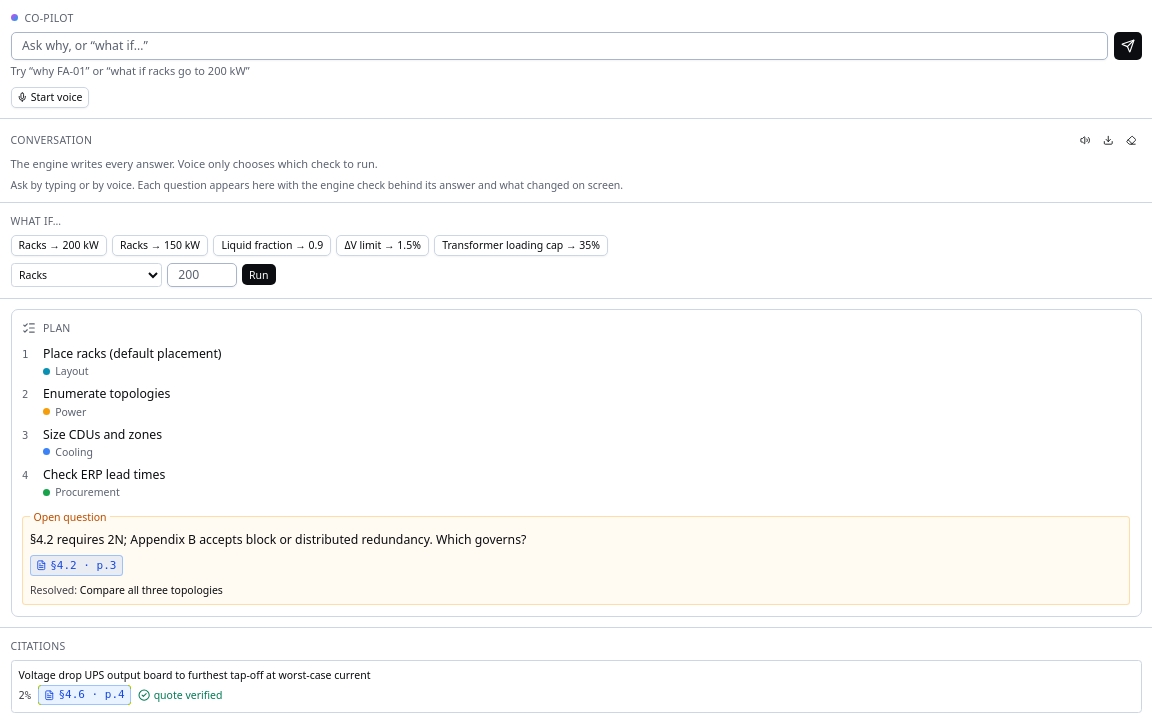
Test case: typed what-if answers with an engine-built summary and lights the chain
Type "what if racks go to 200 kW" into the field named "Ask the co-pilot" at [559, 46], box [10,32,1108,60]
Then press Enter
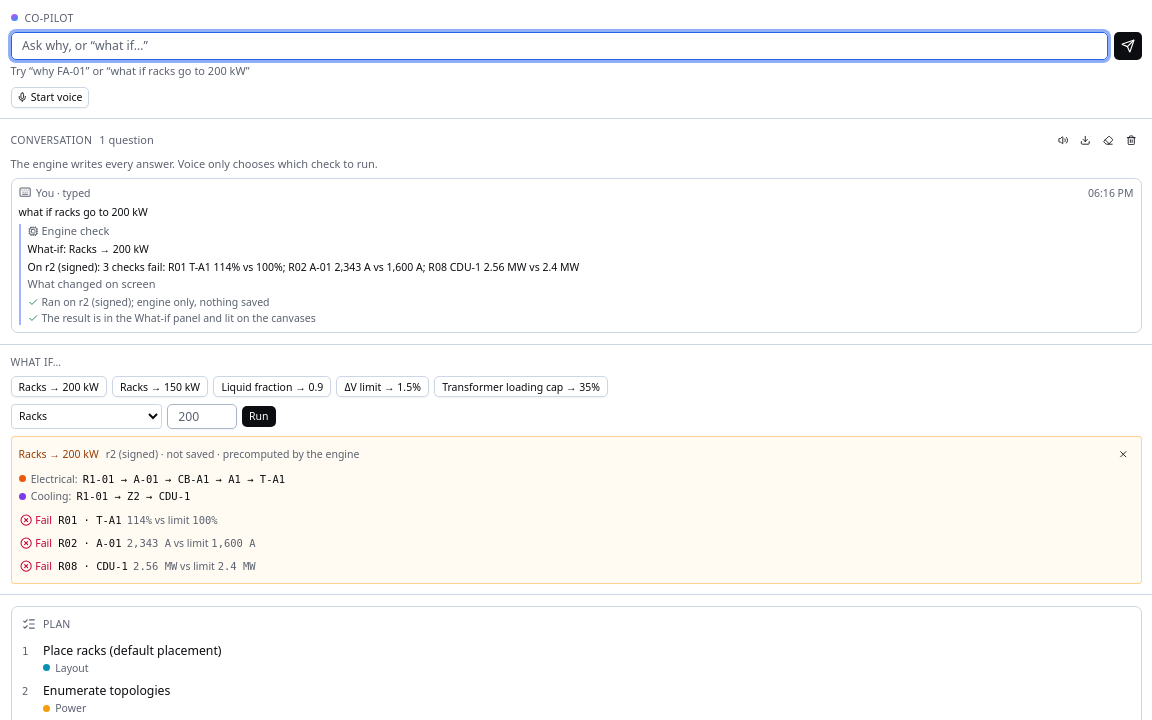
Result: the text "3 checks fail: R01 T-A1 114% vs 100%; R02 A-01 2,343 A vs 1,600 A; R08 CDU-1 2.56 MW vs 2.4 MW" is shown at [28,260,579,274]
